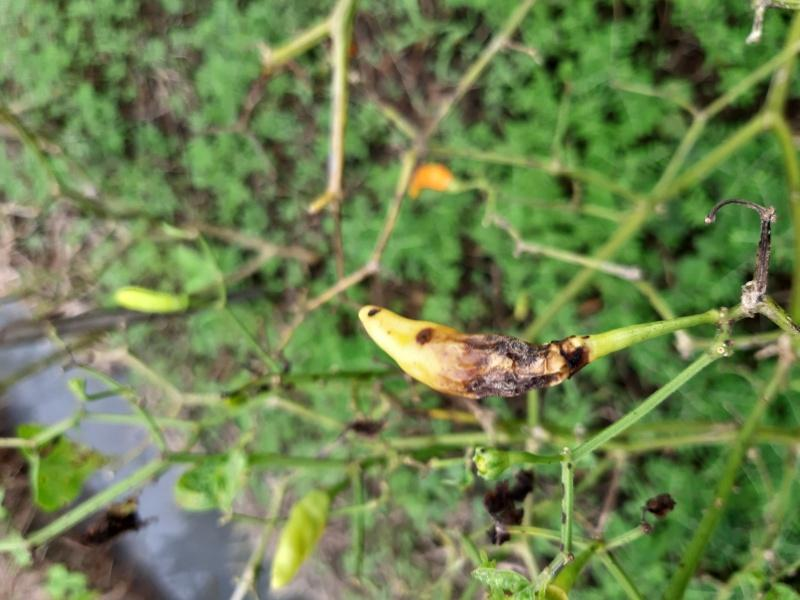antraknosa: (358, 304, 572, 402)
